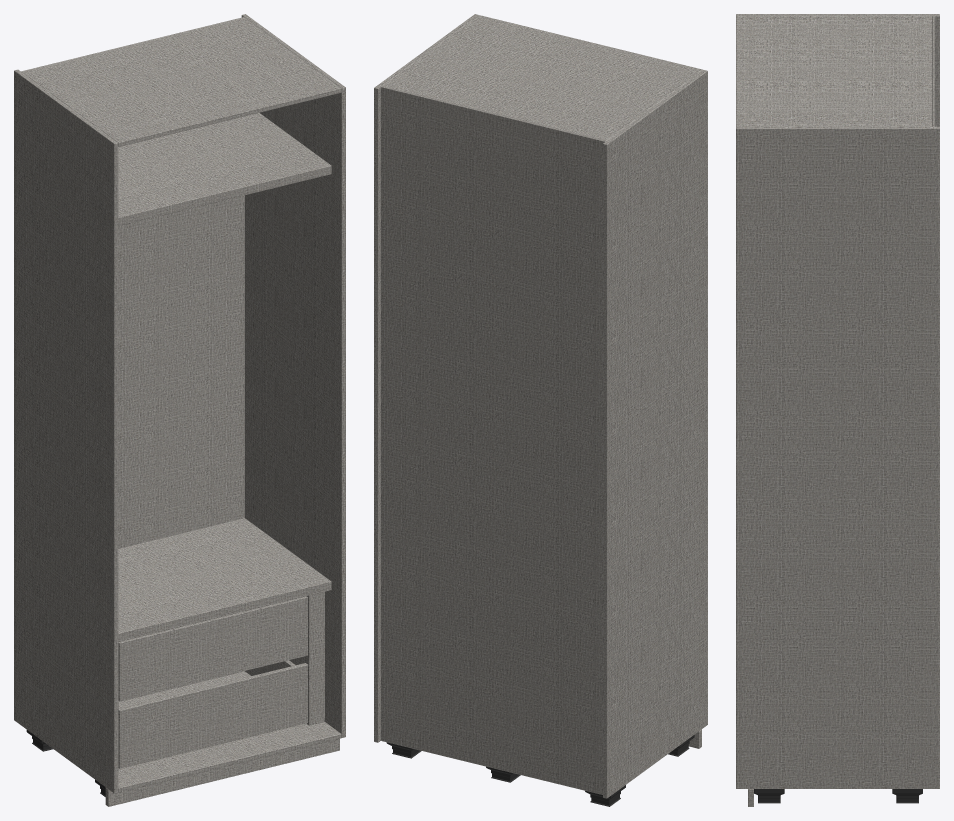
The model's file is cbib12161.gltf.
3 renders of one model, left to right at view 1: azimuth 30°, elevation 25°; view 2: azimuth 150°, elevation 25°; view 3: azimuth 270°, elevation 25°, orthographic.
Parts seen in each view (by area): view 1: CBIB12161; view 2: CBIB12161; view 3: CBIB12161.
Boxes of the visible parts, x1=… form: CBIB12161: x1=14, y1=14, x2=345, y2=806; CBIB12161: x1=374, y1=14, x2=707, y2=806; CBIB12161: x1=736, y1=14, x2=939, y2=806.
Bounding box in the file's own units: 0.8 × 2.2 × 0.6.
3 materials, 2 textured.
